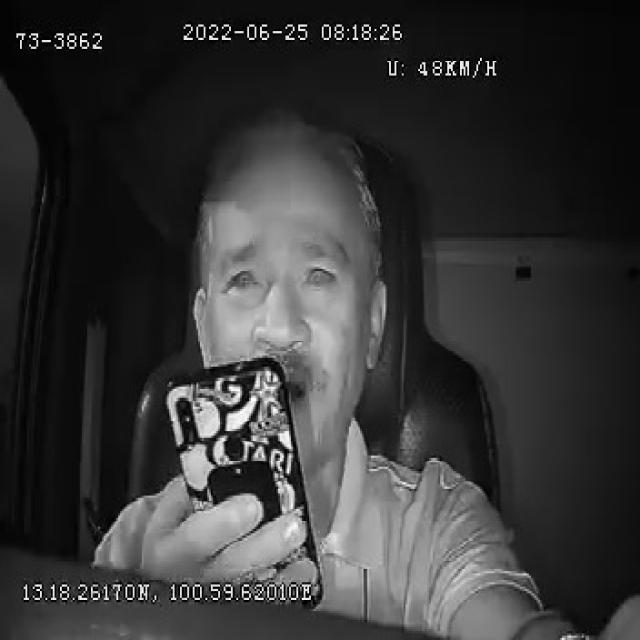phone: (164, 359, 322, 582)
